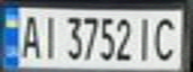2: (115, 14, 136, 62)
3: (60, 12, 84, 61)
5: (97, 14, 118, 62)
7: (78, 12, 100, 62)
A: (15, 11, 42, 60)
C: (151, 14, 184, 62)
I: (36, 11, 60, 60), (133, 14, 157, 62)
